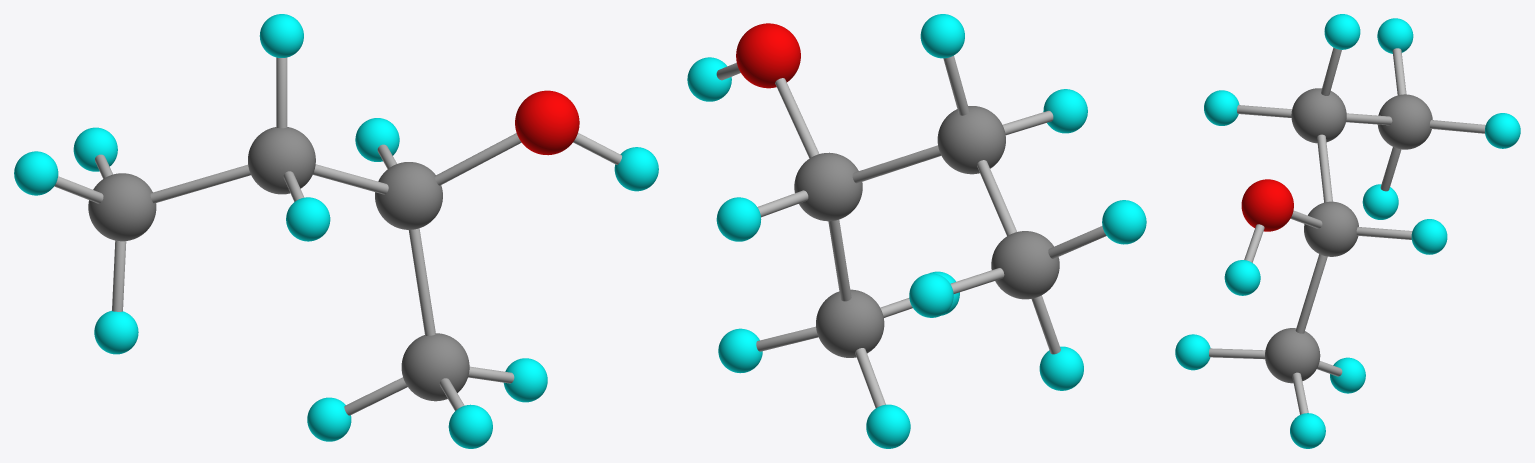
The model's file is 2-butanol.glb.
3 views of the same model, side by side, from view 1: azimuth 30°, elevation 25°; view 2: azimuth 150°, elevation 25°; view 3: azimuth 270°, elevation 25° (orthographic). The views are drawn at different scales.
Visible parts, largest first — view 1: CMAtom_0, CMAtom_7, CMAtom_11, CMAtom_4, CMAtom_1, CMAtom_9, CMAtom_5, CMAtom_13, CMAtom_6, CMAtom_10, CMAtom_12, CMAtom_3 (+10 smaller); view 2: CMAtom_11, CMAtom_7, CMAtom_4, CMAtom_0, CMAtom_1, CMAtom_2, CMAtom_9, CMAtom_12, CMAtom_6, CMAtom_8, CMAtom_14, CMAtom_10 (+14 smaller); view 3: CMAtom_11, CMAtom_4, CMAtom_7, CMAtom_0, CMAtom_1, CMAtom_2, CMAtom_6, CMAtom_3, CMAtom_14, CMAtom_8, CMAtom_13, CMAtom_5 (+15 smaller).
Boxes of the visible parts, x1,y1,x2,y2 form: CMAtom_0: (375,162,442,229); CMAtom_7: (88,173,156,241); CMAtom_11: (401,333,469,401); CMAtom_4: (248,127,315,194); CMAtom_1: (515,90,579,155); CMAtom_9: (14,151,58,195); CMAtom_5: (286,197,330,241); CMAtom_13: (448,404,492,448); CMAtom_6: (259,14,303,57); CMAtom_10: (94,310,138,354); CMAtom_12: (307,397,351,441); CMAtom_3: (614,147,658,191); CMAtom_11: (816,289,884,357); CMAtom_7: (991,231,1059,299); CMAtom_4: (937,106,1005,174); CMAtom_0: (794,152,862,221); CMAtom_1: (736,23,800,88); CMAtom_2: (716,197,761,241); CMAtom_9: (1102,200,1146,244); CMAtom_12: (866,404,910,448); CMAtom_6: (920,14,964,58); CMAtom_8: (909,273,953,317); CMAtom_14: (718,328,762,373); CMAtom_10: (1039,346,1083,390); CMAtom_11: (1265,328,1320,383); CMAtom_4: (1291,88,1346,143); CMAtom_7: (1378,94,1432,149); CMAtom_0: (1304,201,1358,256); CMAtom_1: (1241,179,1293,231); CMAtom_2: (1411,219,1447,254); CMAtom_6: (1324,14,1360,49); CMAtom_3: (1224,260,1260,295); CMAtom_14: (1290,413,1325,448); CMAtom_8: (1485,113,1520,148); CMAtom_13: (1175,334,1210,370); CMAtom_5: (1204,90,1239,125).
Size of the model in its own units: 5.69 by 4.38 by 3.85.
